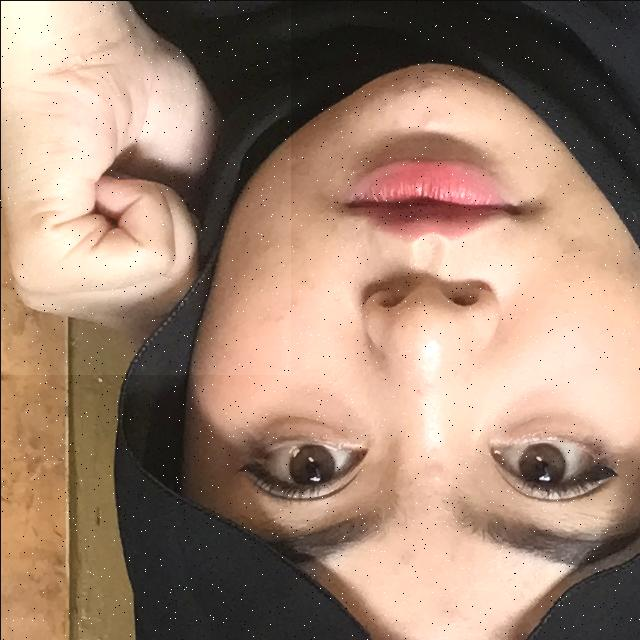ibu: (0, 0, 290, 374)
